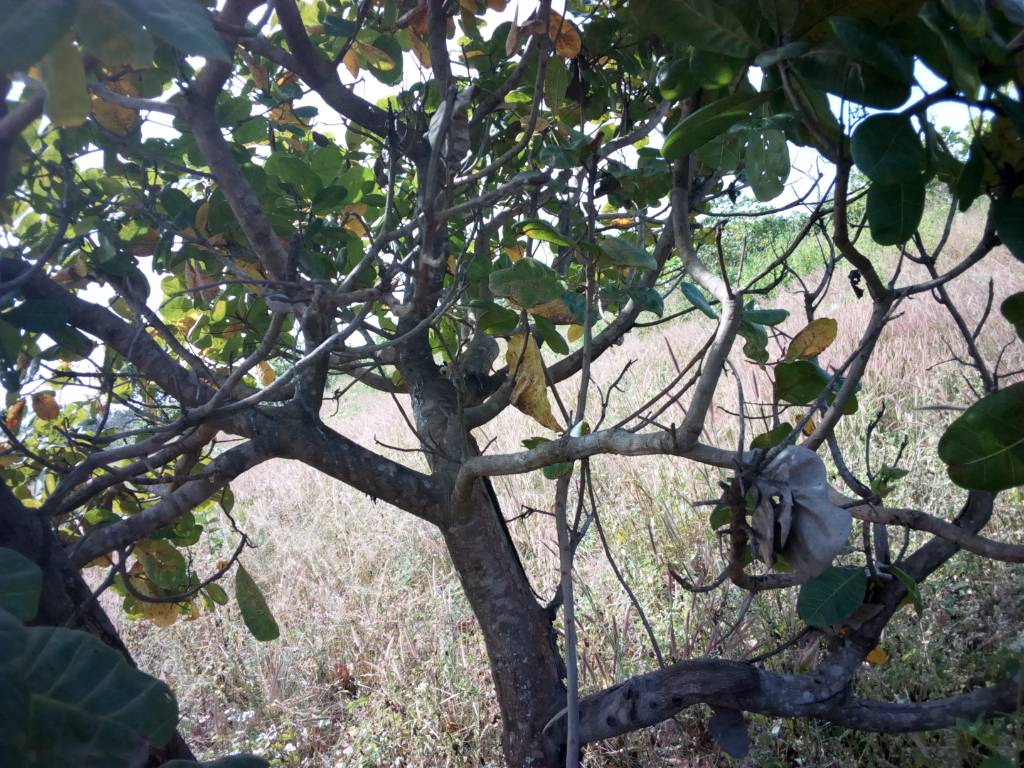Anthracnose: (506, 333, 561, 426), (545, 8, 582, 62)
